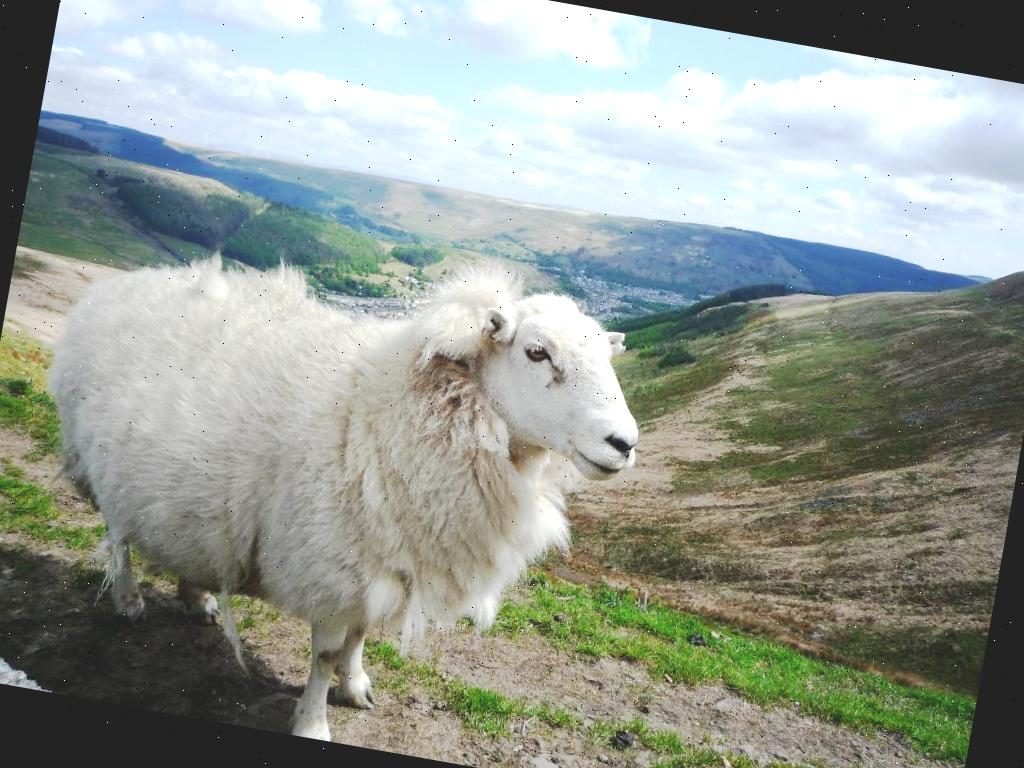Sheep: (0, 180, 665, 768)
